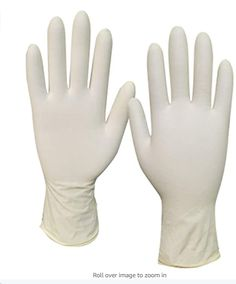gloves: (24, 9, 136, 246), (128, 24, 232, 268)
